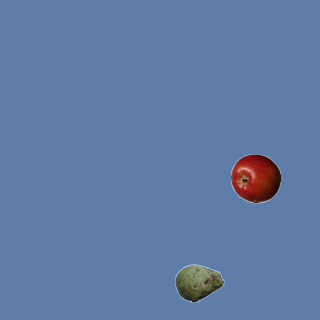Apple Braeburn: (230, 153, 280, 203)
Pear Stone: (174, 258, 224, 308)
